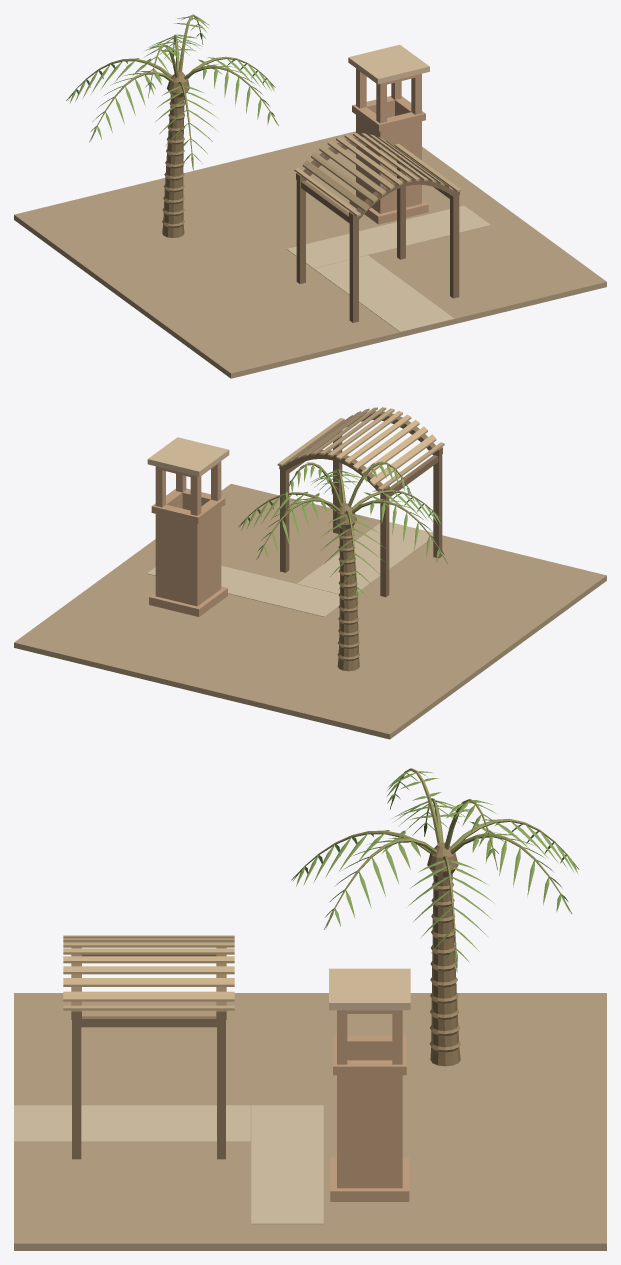
3 renders of one model, top to bottom at view 1: azimuth 30°, elevation 25°; view 2: azimuth 150°, elevation 25°; view 3: azimuth 270°, elevation 25°, orthographic. The views are drawn at different scales.
Visible parts, largest first — view 1: SCENE_ONLY__GroundAndRouteInlays, tower__ContinuousFourMouthDownwardOpenShaft, palm__WholeBentRingScarredTrunkAndCrown, tower__WholeProjectingFlatCap, shade__FullGroundPost_1.2_-1.1, shade__FullGroundPost_-1.2_-1.1, shade__FullGroundPost_-1.2_1.1, shade__WholeEndArchRib_0, shade__FullGroundPost_1.2_1.1, shade__SeparatedLongRoofSlat_1, shade__SeparatedLongRoofSlat_2, shade__SeparatedLongRoofSlat_3 (+2 smaller); view 2: SCENE_ONLY__GroundAndRouteInlays, tower__ContinuousFourMouthDownwardOpenShaft, palm__WholeBentRingScarredTrunkAndCrown, tower__WholeProjectingFlatCap, shade__FullGroundPost_-1.2_1.1, shade__FullGroundPost_-1.2_-1.1, shade__FullGroundPost_1.2_1.1, shade__WholeEndArchRib_1, shade__SeparatedLongRoofSlat_1, shade__SeparatedLongRoofSlat_3, shade__SeparatedLongRoofSlat_2, shade__SeparatedLongRoofSlat_4 (+2 smaller); view 3: SCENE_ONLY__GroundAndRouteInlays, tower__ContinuousFourMouthDownwardOpenShaft, palm__WholeBentRingScarredTrunkAndCrown, tower__WholeProjectingFlatCap, shade__SeparatedLongRoofSlat_11, shade__LongSideTie_1.2, shade__SeparatedLongRoofSlat_9, shade__SeparatedLongRoofSlat_10, shade__FullGroundPost_1.2_-1.1, shade__SeparatedLongRoofSlat_8, shade__FullGroundPost_1.2_1.1, shade__SeparatedLongRoofSlat_7 (+3 smaller).
Part boxes in pixels (bbox=[...]): SCENE_ONLY__GroundAndRouteInlays: bbox=[14, 131, 606, 378]; tower__ContinuousFourMouthDownwardOpenShaft: bbox=[349, 68, 428, 224]; palm__WholeBentRingScarredTrunkAndCrown: bbox=[162, 71, 189, 237]; tower__WholeProjectingFlatCap: bbox=[348, 44, 429, 84]; shade__FullGroundPost_1.2_-1.1: bbox=[450, 195, 459, 298]; shade__FullGroundPost_-1.2_-1.1: bbox=[349, 219, 358, 322]; shade__FullGroundPost_-1.2_1.1: bbox=[296, 180, 305, 283]; shade__WholeEndArchRib_0: bbox=[349, 175, 459, 220]; shade__FullGroundPost_1.2_1.1: bbox=[397, 156, 405, 259]; shade__SeparatedLongRoofSlat_1: bbox=[302, 160, 369, 211]; shade__SeparatedLongRoofSlat_2: bbox=[311, 152, 377, 203]; shade__SeparatedLongRoofSlat_3: bbox=[319, 145, 386, 195]; SCENE_ONLY__GroundAndRouteInlays: bbox=[14, 484, 606, 739]; tower__ContinuousFourMouthDownwardOpenShaft: bbox=[149, 461, 227, 616]; palm__WholeBentRingScarredTrunkAndCrown: bbox=[334, 503, 360, 671]; tower__WholeProjectingFlatCap: bbox=[147, 437, 229, 476]; shade__FullGroundPost_-1.2_1.1: bbox=[380, 493, 389, 597]; shade__FullGroundPost_-1.2_-1.1: bbox=[433, 454, 442, 558]; shade__FullGroundPost_1.2_1.1: bbox=[280, 469, 289, 572]; shade__WholeEndArchRib_1: bbox=[279, 450, 389, 494]; shade__SeparatedLongRoofSlat_1: bbox=[369, 434, 436, 486]; shade__SeparatedLongRoofSlat_3: bbox=[353, 420, 419, 469]; shade__SeparatedLongRoofSlat_2: bbox=[361, 426, 427, 476]; shade__SeparatedLongRoofSlat_4: bbox=[344, 414, 411, 464]; SCENE_ONLY__GroundAndRouteInlays: bbox=[14, 993, 606, 1250]; tower__ContinuousFourMouthDownwardOpenShaft: bbox=[330, 1010, 409, 1201]; palm__WholeBentRingScarredTrunkAndCrown: bbox=[427, 842, 460, 1066]; tower__WholeProjectingFlatCap: bbox=[329, 968, 410, 1010]; shade__SeparatedLongRoofSlat_11: bbox=[63, 991, 234, 1001]; shade__LongSideTie_1.2: bbox=[81, 1016, 216, 1027]; shade__SeparatedLongRoofSlat_9: bbox=[63, 966, 234, 974]; shade__SeparatedLongRoofSlat_10: bbox=[63, 978, 234, 986]; shade__FullGroundPost_1.2_-1.1: bbox=[72, 1020, 81, 1159]; shade__SeparatedLongRoofSlat_8: bbox=[63, 956, 234, 963]; shade__FullGroundPost_1.2_1.1: bbox=[217, 1020, 225, 1159]; shade__SeparatedLongRoofSlat_7: bbox=[63, 948, 234, 954].
Bounding box in the file's own units: 9 × 4.78 × 9.
